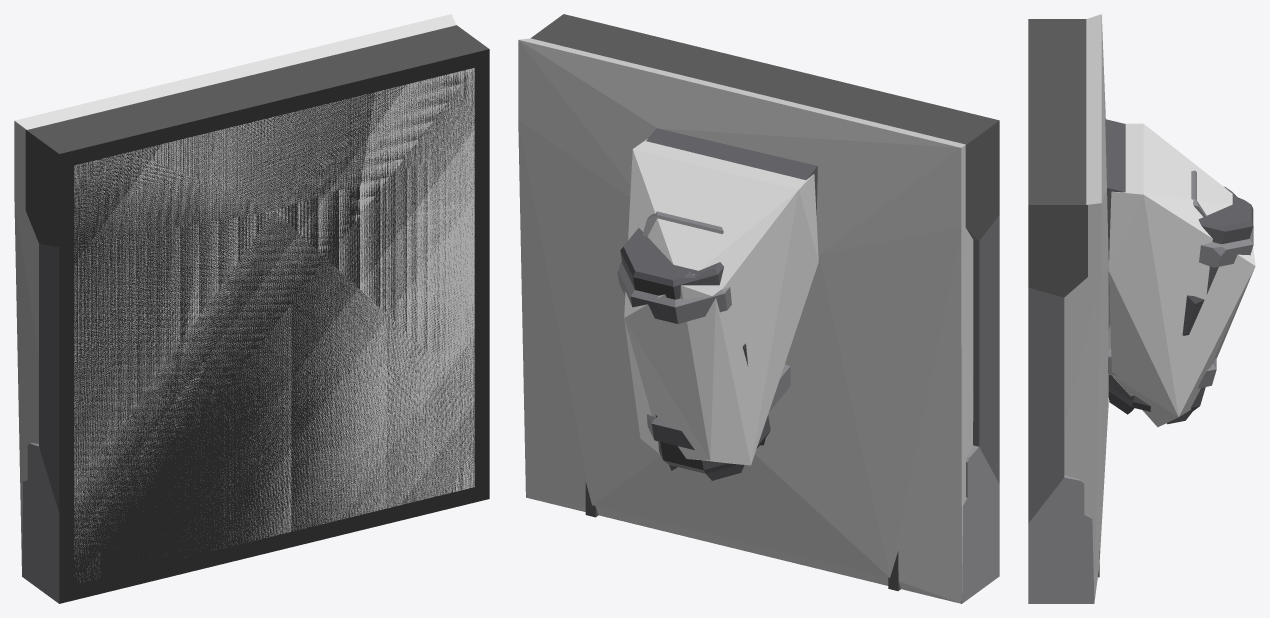
Rendered from SM_Bld_Wall_Mechanical_02.fbx.
3 renders of one model, left to right at view 1: azimuth 30°, elevation 25°; view 2: azimuth 150°, elevation 25°; view 3: azimuth 270°, elevation 25°, orthographic. The views are drawn at different scales.
Visible parts, largest first — view 1: SM_Bld_Wall_Mechanical_02_LOD0, SM_Bld_Wall_Mechanical_02_ConvexHulls; view 2: SM_Bld_Wall_Mechanical_02_ConvexHulls, SM_Bld_Wall_Mechanical_02_LOD0; view 3: SM_Bld_Wall_Mechanical_02_ConvexHulls, SM_Bld_Wall_Mechanical_02_LOD0.
Boxes of the visible parts, x1,y1,x2,y2 form: SM_Bld_Wall_Mechanical_02_LOD0: [22, 25, 489, 603]; SM_Bld_Wall_Mechanical_02_ConvexHulls: [14, 14, 474, 582]; SM_Bld_Wall_Mechanical_02_ConvexHulls: [518, 38, 973, 603]; SM_Bld_Wall_Mechanical_02_LOD0: [526, 14, 999, 603]; SM_Bld_Wall_Mechanical_02_ConvexHulls: [1064, 14, 1255, 602]; SM_Bld_Wall_Mechanical_02_LOD0: [1028, 19, 1253, 603].
Size of the model in its own units: 258 by 508 by 504.
Materials: 1 (1 with a texture image).
